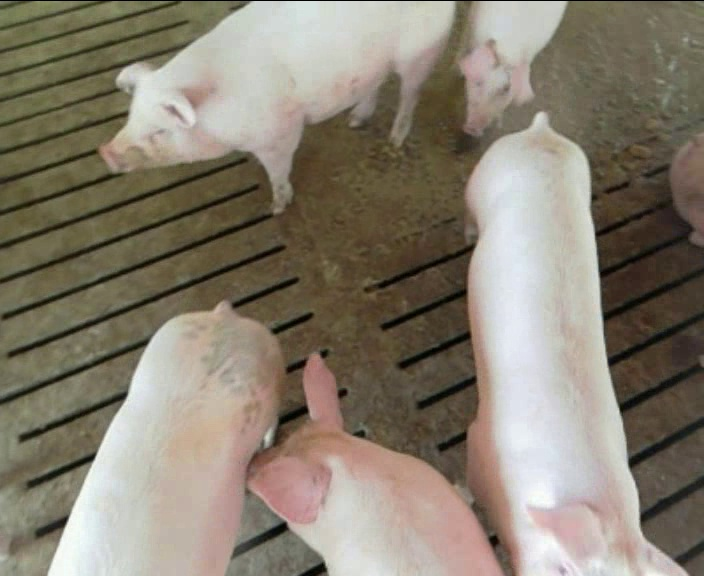pig: (464, 112, 684, 573), (100, 3, 454, 211), (50, 301, 283, 574), (248, 354, 501, 574), (456, 2, 566, 135)
